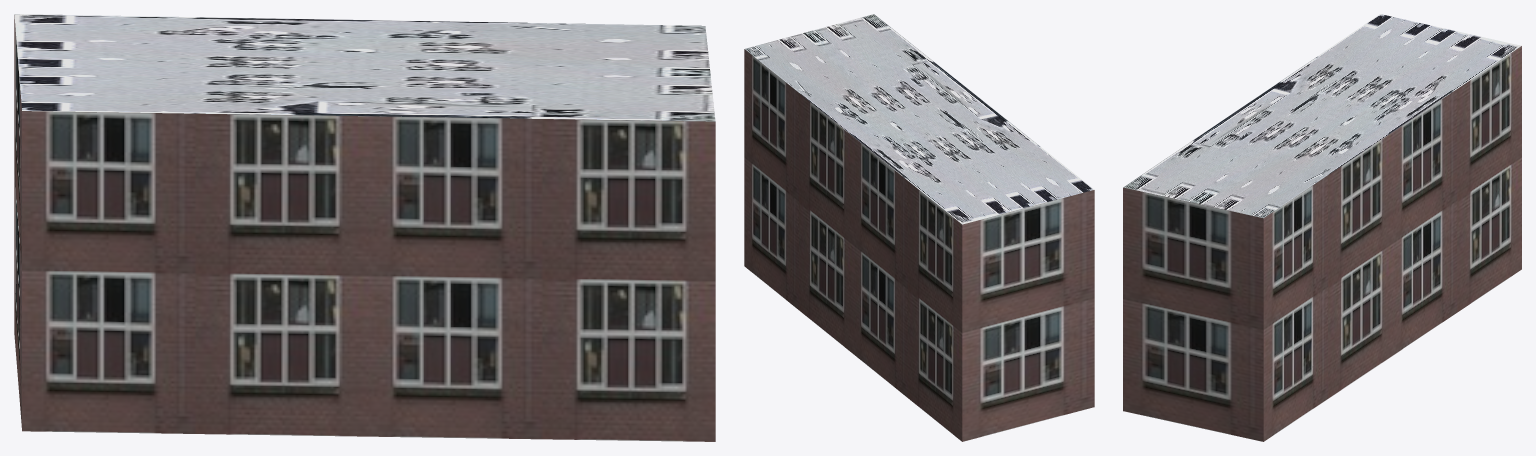
Rendered from ResTex__1210.fbx.
The picture shows the model from 3 angles, left to right: view 1: azimuth 30°, elevation 25°; view 2: azimuth 150°, elevation 25°; view 3: azimuth 270°, elevation 25°; orthographic projection. The views are drawn at different scales.
Parts seen in each view (by area): view 1: CityEngineMaterial_12_m, CityEngineMaterial_m; view 2: CityEngineMaterial_12_m, CityEngineMaterial_m; view 3: CityEngineMaterial_12_m, CityEngineMaterial_m.
Part boxes in pixels (box(x1,y1,x2,y2)): CityEngineMaterial_12_m: box(14, 15, 715, 441); CityEngineMaterial_m: box(14, 14, 715, 121); CityEngineMaterial_12_m: box(744, 49, 1094, 441); CityEngineMaterial_m: box(745, 14, 1094, 224); CityEngineMaterial_12_m: box(1123, 46, 1521, 441); CityEngineMaterial_m: box(1123, 14, 1521, 218).
Size of the model in its own units: 11.76 by 6 by 9.7.
2 materials, 2 textured.
